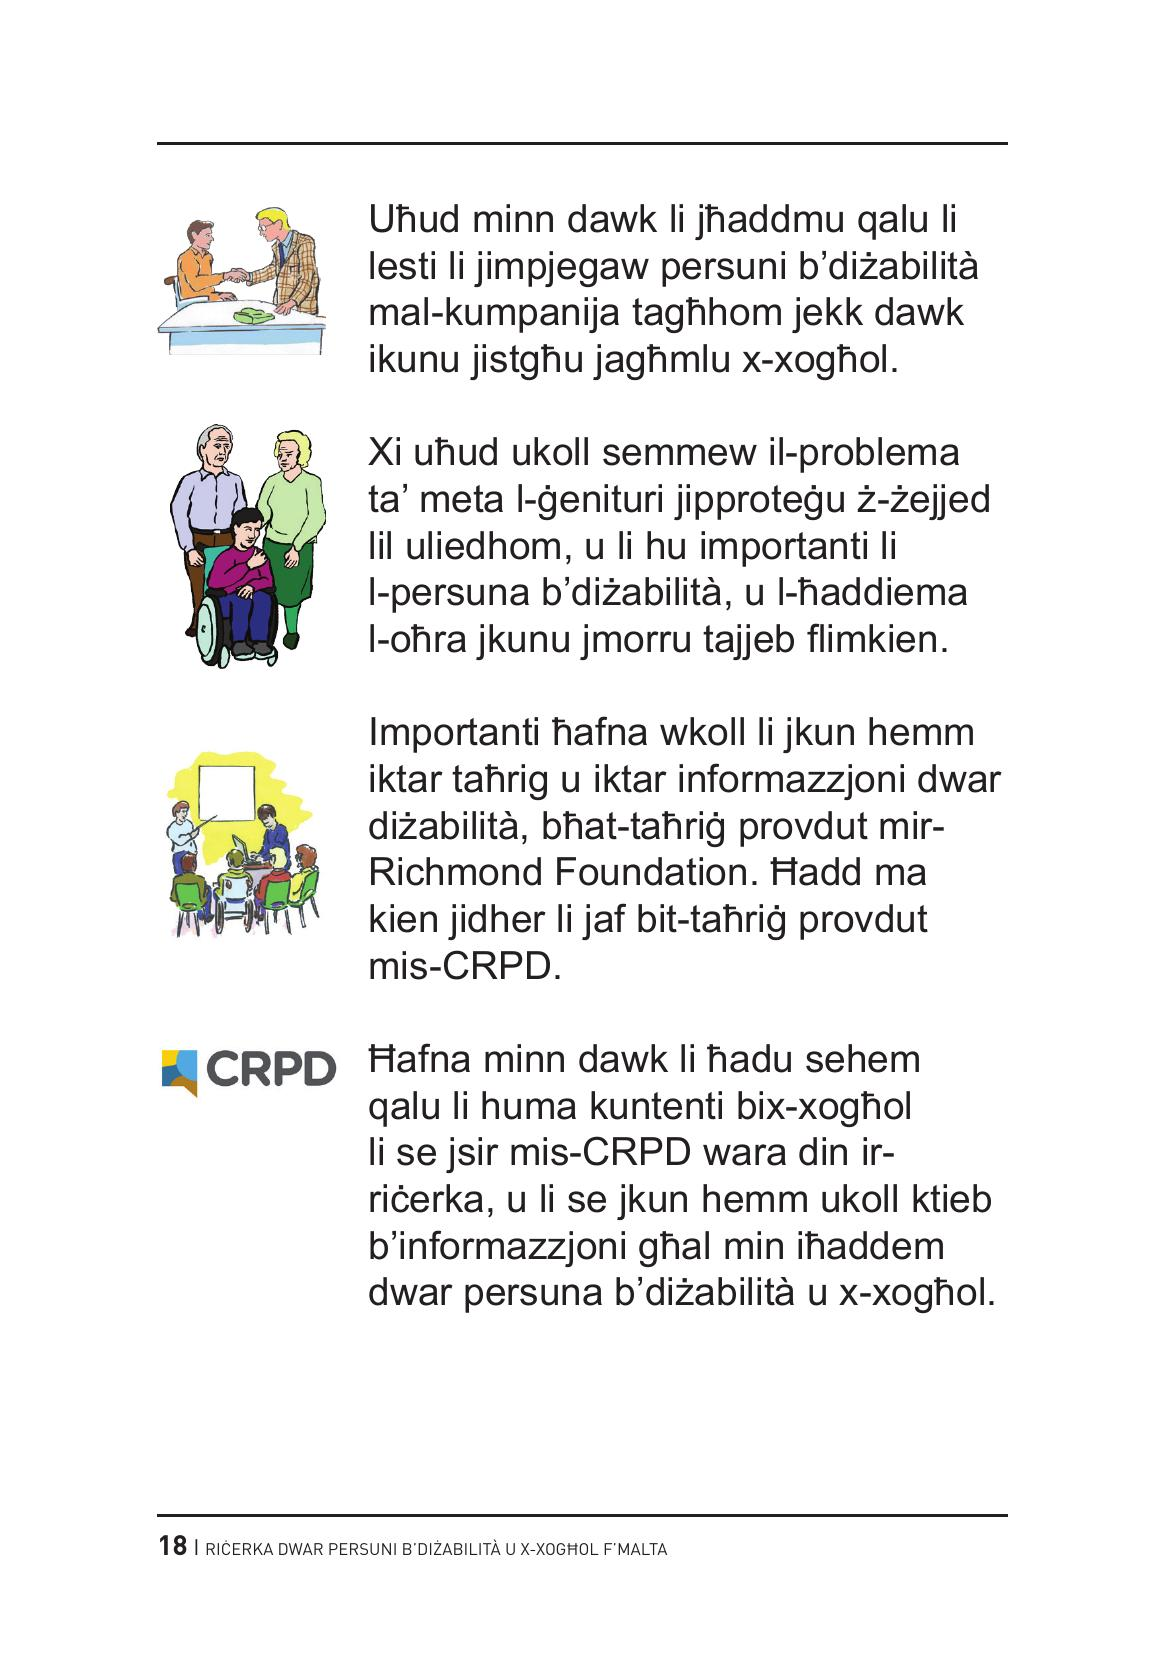text: (353, 185, 1026, 1360)
